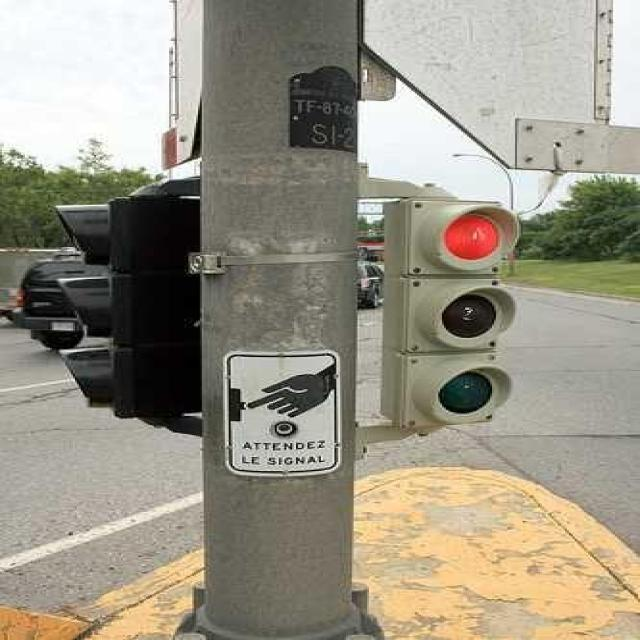Traffic Light -Red-: (368, 192, 526, 430)
